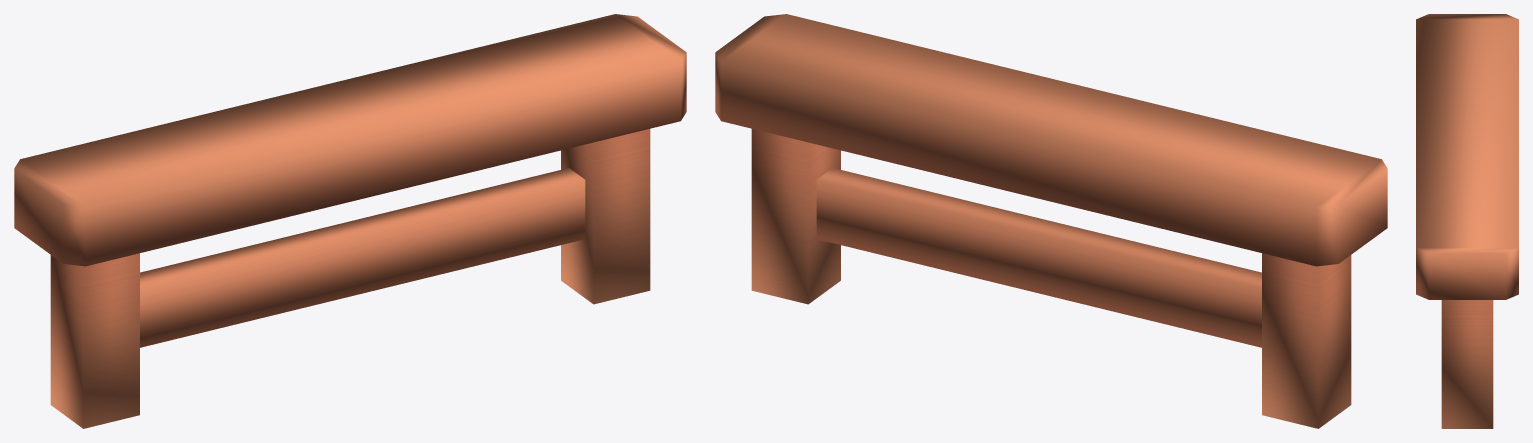
Rendered from cabin-fence_lev3.glb.
3 renders of one model, left to right at view 1: azimuth 30°, elevation 25°; view 2: azimuth 150°, elevation 25°; view 3: azimuth 270°, elevation 25°, orthographic. The views are drawn at different scales.
Visible parts, largest first — view 1: cabin-fence_lev3; view 2: cabin-fence_lev3; view 3: cabin-fence_lev3.
Boxes of the visible parts, x1,y1,x2,y2 form: cabin-fence_lev3: [14, 14, 686, 428]; cabin-fence_lev3: [715, 14, 1387, 428]; cabin-fence_lev3: [1416, 14, 1518, 428].
Bounding box in the file's own units: 1.1 × 0.4 × 0.2.
Materials: 1 (1 with a texture image).
